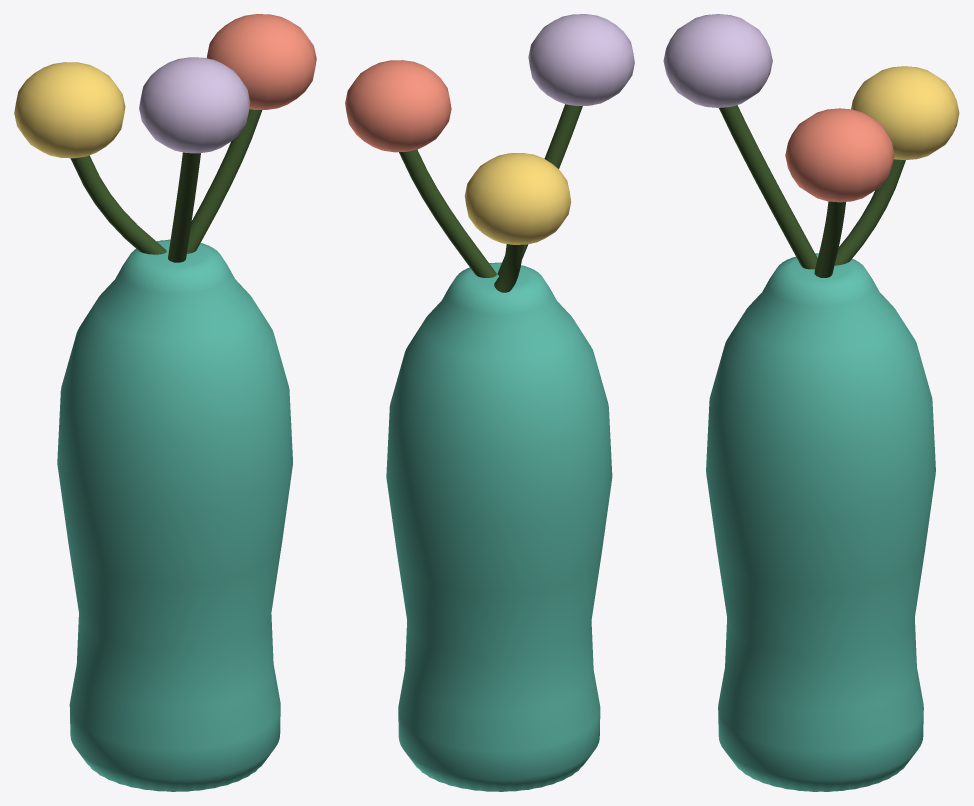
File: vase_a.glb
3 views of the same model, side by side, from view 1: azimuth 30°, elevation 25°; view 2: azimuth 150°, elevation 25°; view 3: azimuth 270°, elevation 25° (orthographic). The views are drawn at different scales.
Parts seen in each view (by area): view 1: body; view 2: body; view 3: body.
Boxes of the visible parts, x1=… form: body: x1=14, y1=14, x2=316, y2=791; body: x1=345, y1=14, x2=634, y2=791; body: x1=663, y1=14, x2=959, y2=791.
Bounding box in the file's own units: 0.1577 × 0.44 × 0.1623.
